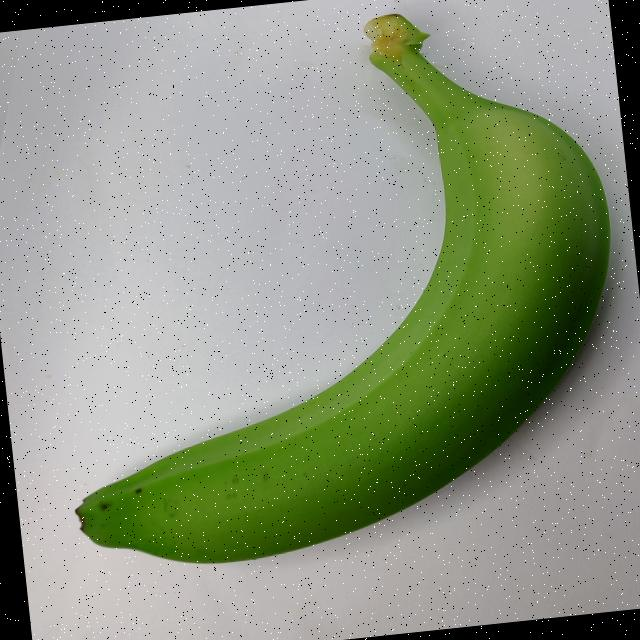Raw: (3, 0, 640, 613)
